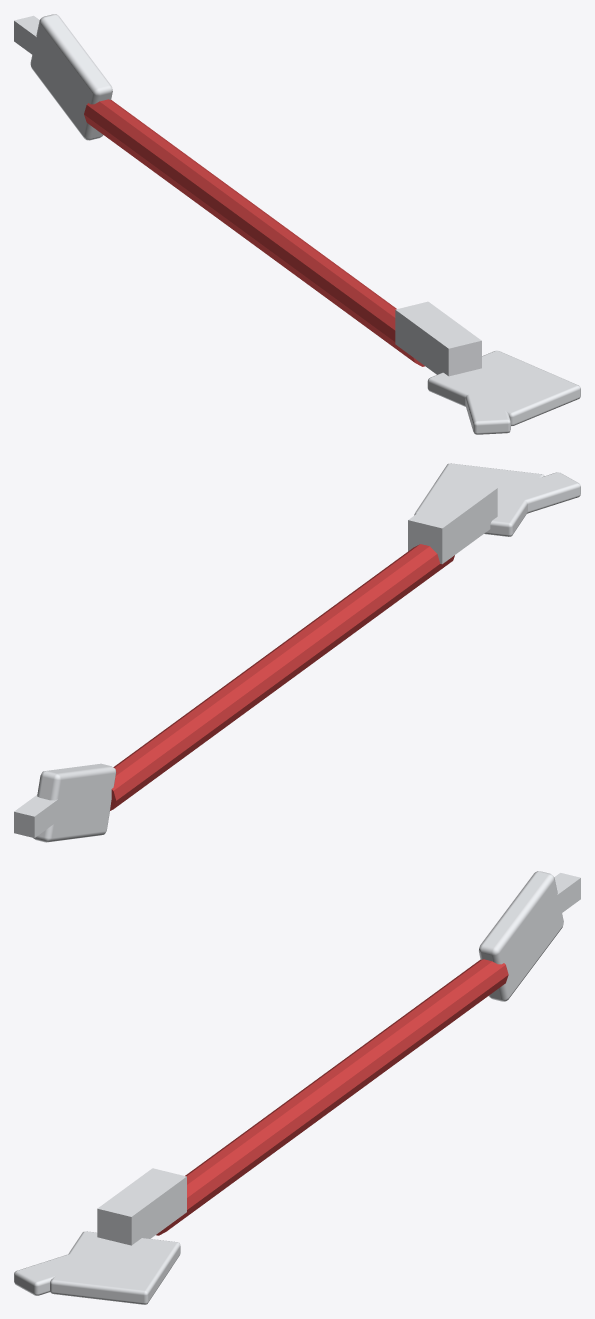
Rendered from fire-and-emergency-services-hooligan-bar-53e0e73a__29917.glb.
3 views of the same model, one above another, from view 1: azimuth 30°, elevation 25°; view 2: azimuth 150°, elevation 25°; view 3: azimuth 330°, elevation 25° (orthographic). The views are drawn at different scales.
Parts seen in each view (by area): view 1: hooligan-bar; view 2: hooligan-bar; view 3: hooligan-bar.
Boxes of the visible parts, x1=… form: hooligan-bar: x1=14, y1=14, x2=580, y2=434; hooligan-bar: x1=14, y1=463, x2=580, y2=842; hooligan-bar: x1=14, y1=871, x2=580, y2=1304.
Bounding box in the file's own units: 0.1779 × 0.1311 × 1.31.
